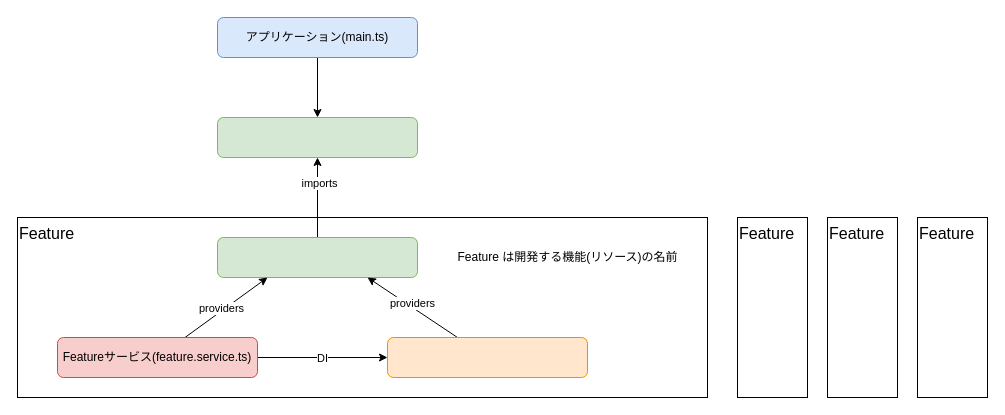
Image size: 1005x415. Some labels were removed from this diagram. Here are the shapes that lost their labels. From the top down, the centre of each, then its label:
At (x=317, y=137): "ルートモジュール(app.module.ts)".
At (x=317, y=257): "Featureモジュール(feature.module.ts)".
At (x=487, y=357): "Featureリゾルバー(feature.resolver.ts)".
